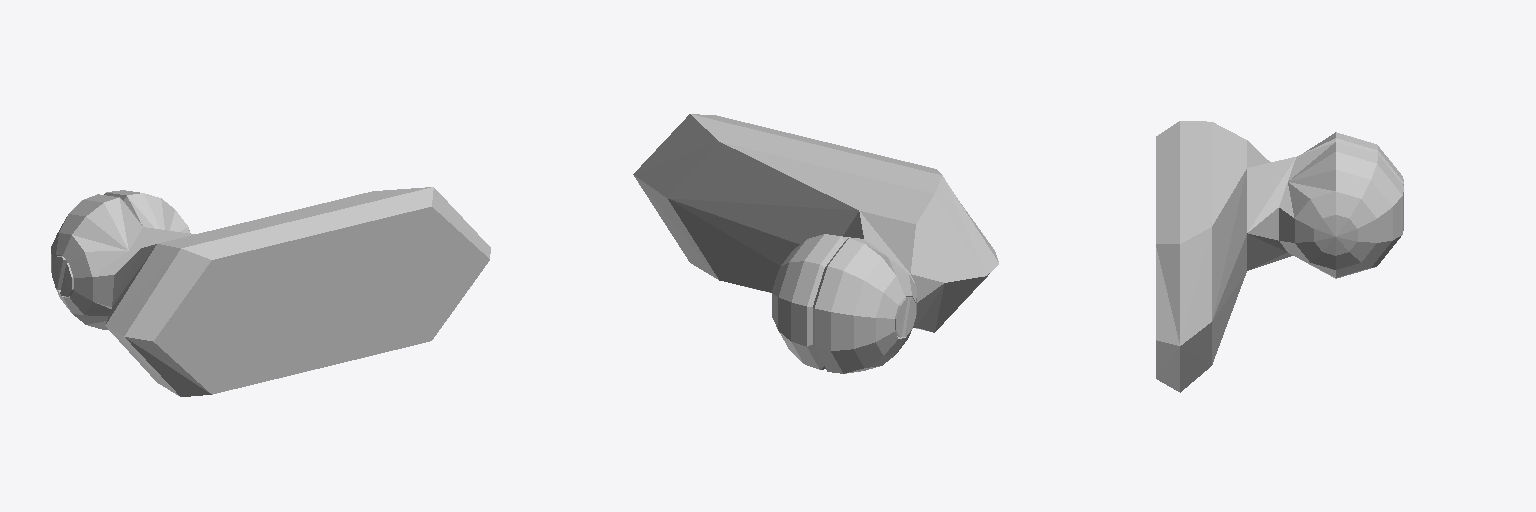
The model's file is foot.obj.
3 renders of one model, left to right at view 1: azimuth 30°, elevation 25°; view 2: azimuth 150°, elevation 25°; view 3: azimuth 270°, elevation 25°, orthographic.
Parts seen in each view (by area): view 1: Sphere; view 2: Sphere; view 3: Sphere.
Boxes of the visible parts, x1,y1,x2,y2 form: Sphere: [51, 187, 490, 396]; Sphere: [633, 114, 998, 373]; Sphere: [1156, 121, 1403, 392].
Bounding box in the file's own units: 5.82 × 2.24 × 3.39.